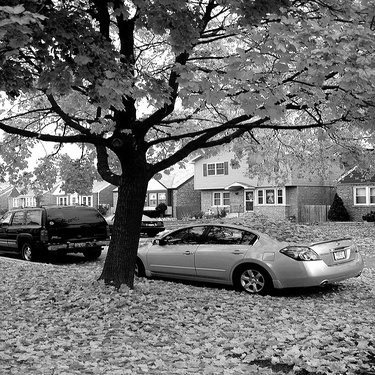car: (126, 211, 365, 294), (1, 200, 113, 263), (97, 205, 164, 243)
